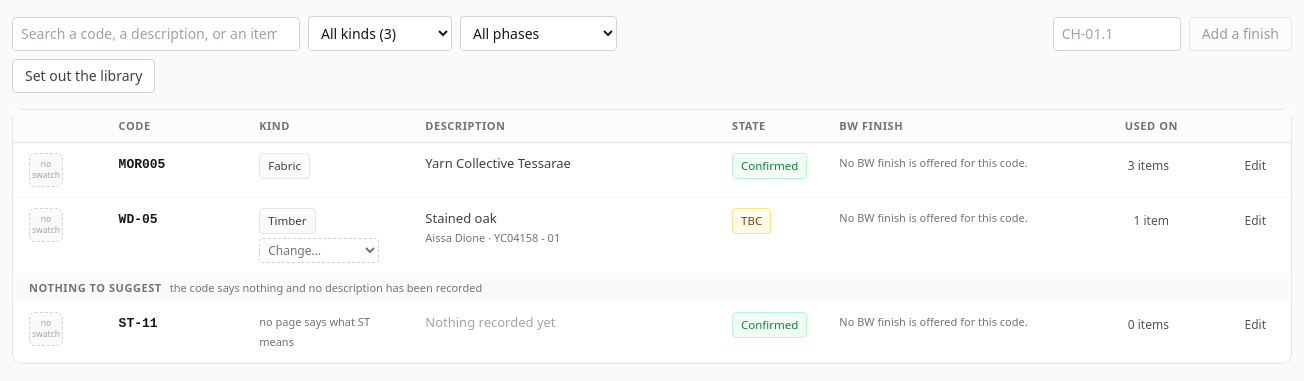
the finishes library › expands to every use, including the phases the filter is hiding
The width and height of the screenshot is (1304, 381).
expect the text "MOR005" is shown: met, box [119,157,165,172]
Select "MAIN RUN - VE (1)" in the dropdown named "Filter by phase" at (538,34), box [460,16,617,51]
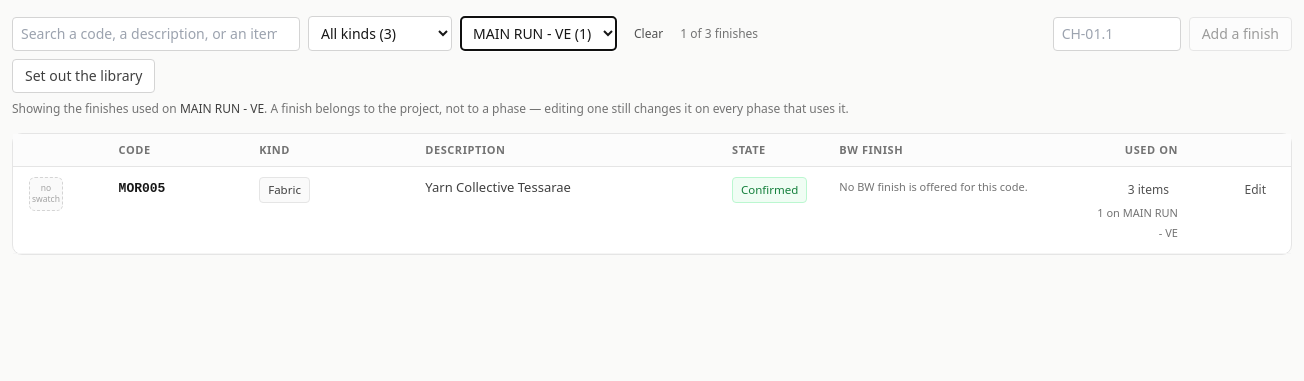
Click the button with aria-label "used on 3 items".
click(1148, 190)  # box [1119,177,1178,203]
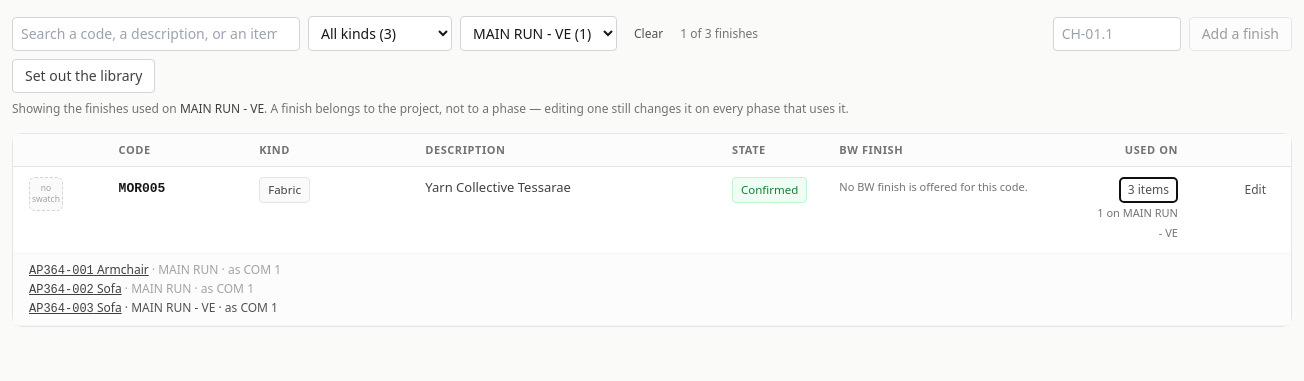
expect the text "AP364-001" is shown: met, box [29,264,94,278]
expect the text "AP364-003" is shown: met, box [29,302,94,316]
